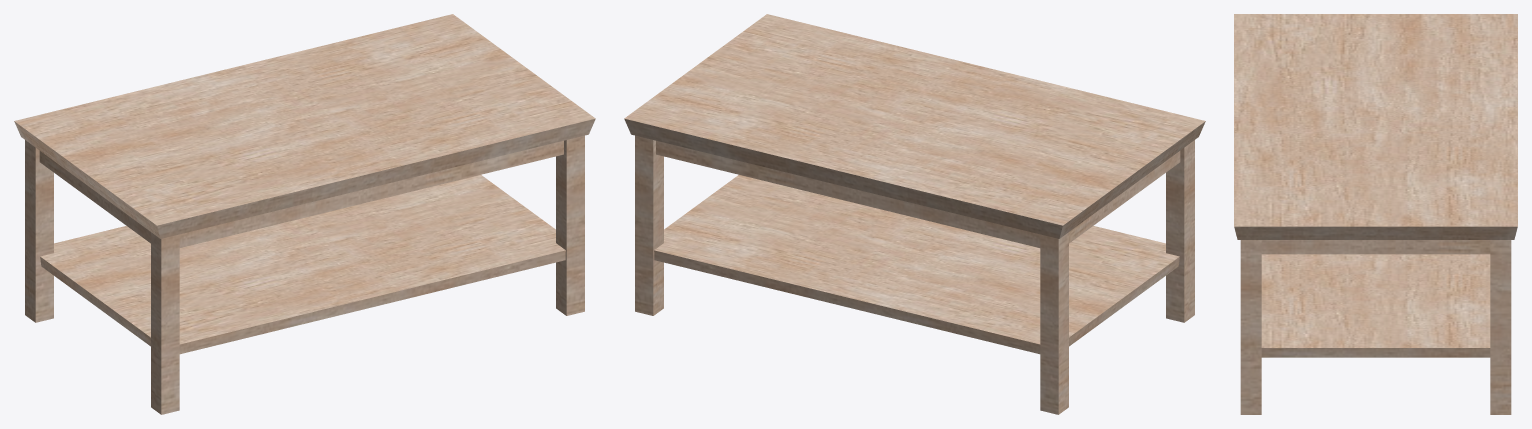
Rendered from Table_29.glb.
The picture shows the model from 3 angles, left to right: view 1: azimuth 30°, elevation 25°; view 2: azimuth 150°, elevation 25°; view 3: azimuth 270°, elevation 25°; orthographic projection.
Parts seen in each view (by area): view 1: Table_29; view 2: Table_29; view 3: Table_29.
Part boxes in pixels (bbox=[...]): Table_29: bbox=[14, 14, 595, 414]; Table_29: bbox=[624, 14, 1205, 414]; Table_29: bbox=[1234, 14, 1517, 414].
Size of the model in its own units: 1.37 by 0.5789 by 0.7748.
Materials: 1 (1 with a texture image).
